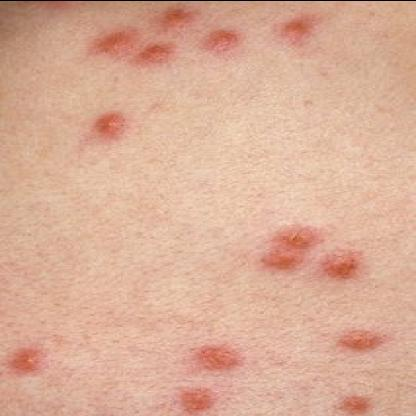Fire ant: (88, 30, 168, 64), (201, 25, 238, 57), (274, 226, 320, 247), (156, 4, 192, 28), (90, 112, 125, 136), (201, 344, 236, 368), (322, 254, 356, 278), (12, 348, 45, 372), (273, 17, 303, 43), (338, 330, 375, 349), (338, 395, 366, 412), (264, 251, 297, 265), (182, 390, 208, 407)
